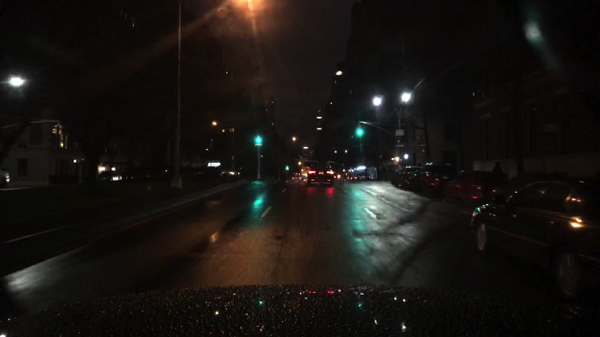car: (467, 181, 598, 303), (491, 171, 570, 206), (442, 169, 503, 206), (411, 162, 456, 197), (390, 165, 422, 190), (306, 163, 335, 185), (97, 171, 123, 181), (1, 167, 11, 188), (125, 171, 140, 180), (288, 172, 301, 181), (193, 169, 206, 176), (358, 173, 367, 180), (345, 174, 354, 180)
person: (489, 160, 503, 176)
traffic light: (257, 135, 260, 147), (358, 128, 361, 140), (421, 149, 425, 154), (285, 164, 287, 171)
traffic sign: (393, 129, 404, 136), (415, 134, 423, 143), (394, 143, 404, 149)
